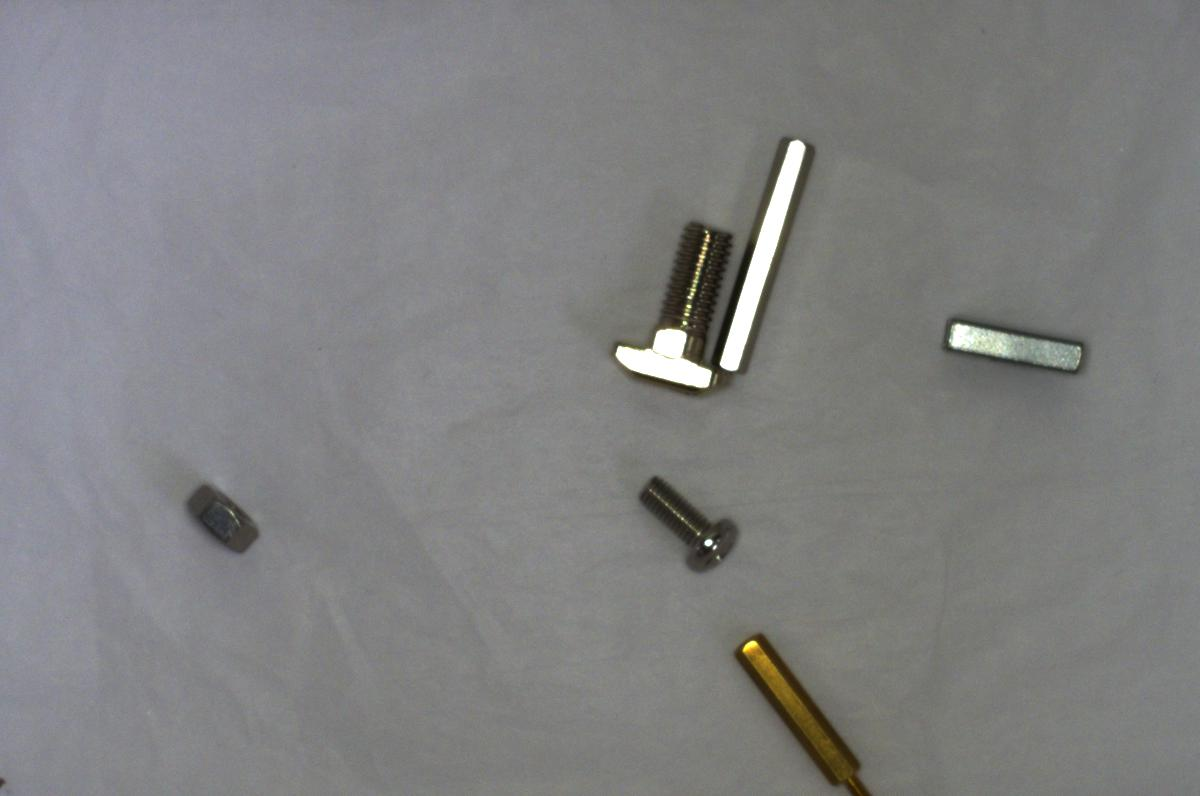Double hexagonal column: (712, 136, 817, 381)
Hexagon nut: (179, 478, 265, 555)
Hexagon pillar: (732, 620, 880, 795)
Rectangular nut: (930, 303, 1086, 386)
Round head screw: (632, 468, 748, 578)
T-shaped screw: (598, 218, 728, 398)
